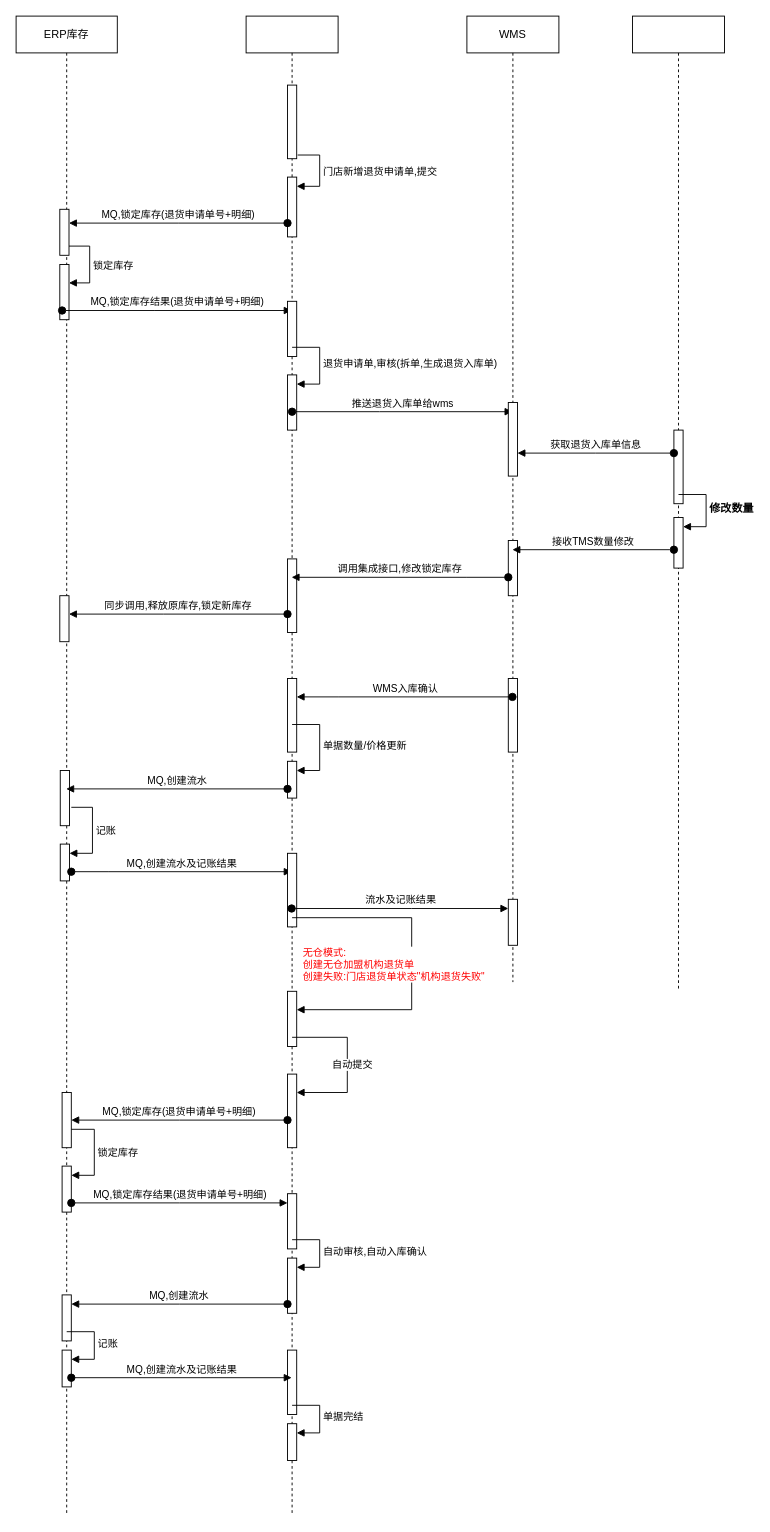
Some shapes in this 770 by 1532 pixel diagram are drawn without their labels. Here are the shapes that lost their labels. From the top down, the centre of each, then its label:
At pixel 678 503: "TMS".
At pixel 291 765: "ERP销售".
